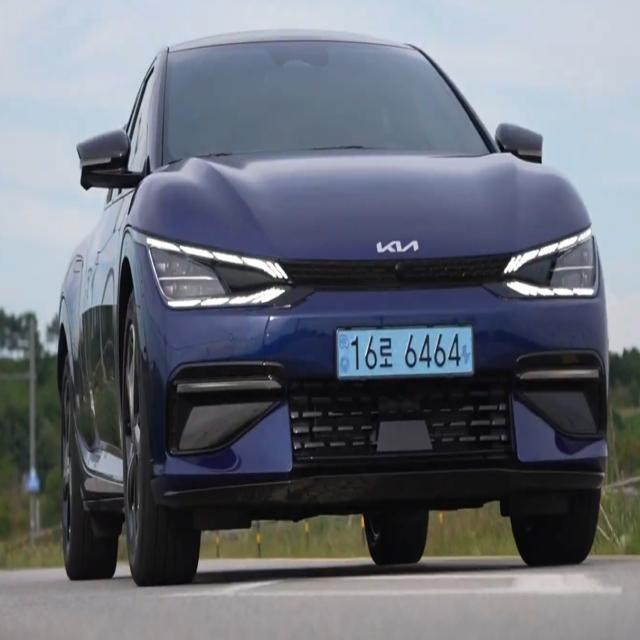car: (318, 314, 493, 398)
carev: (333, 321, 352, 383), (458, 320, 475, 380)
